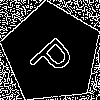P: (27, 28, 82, 84)
